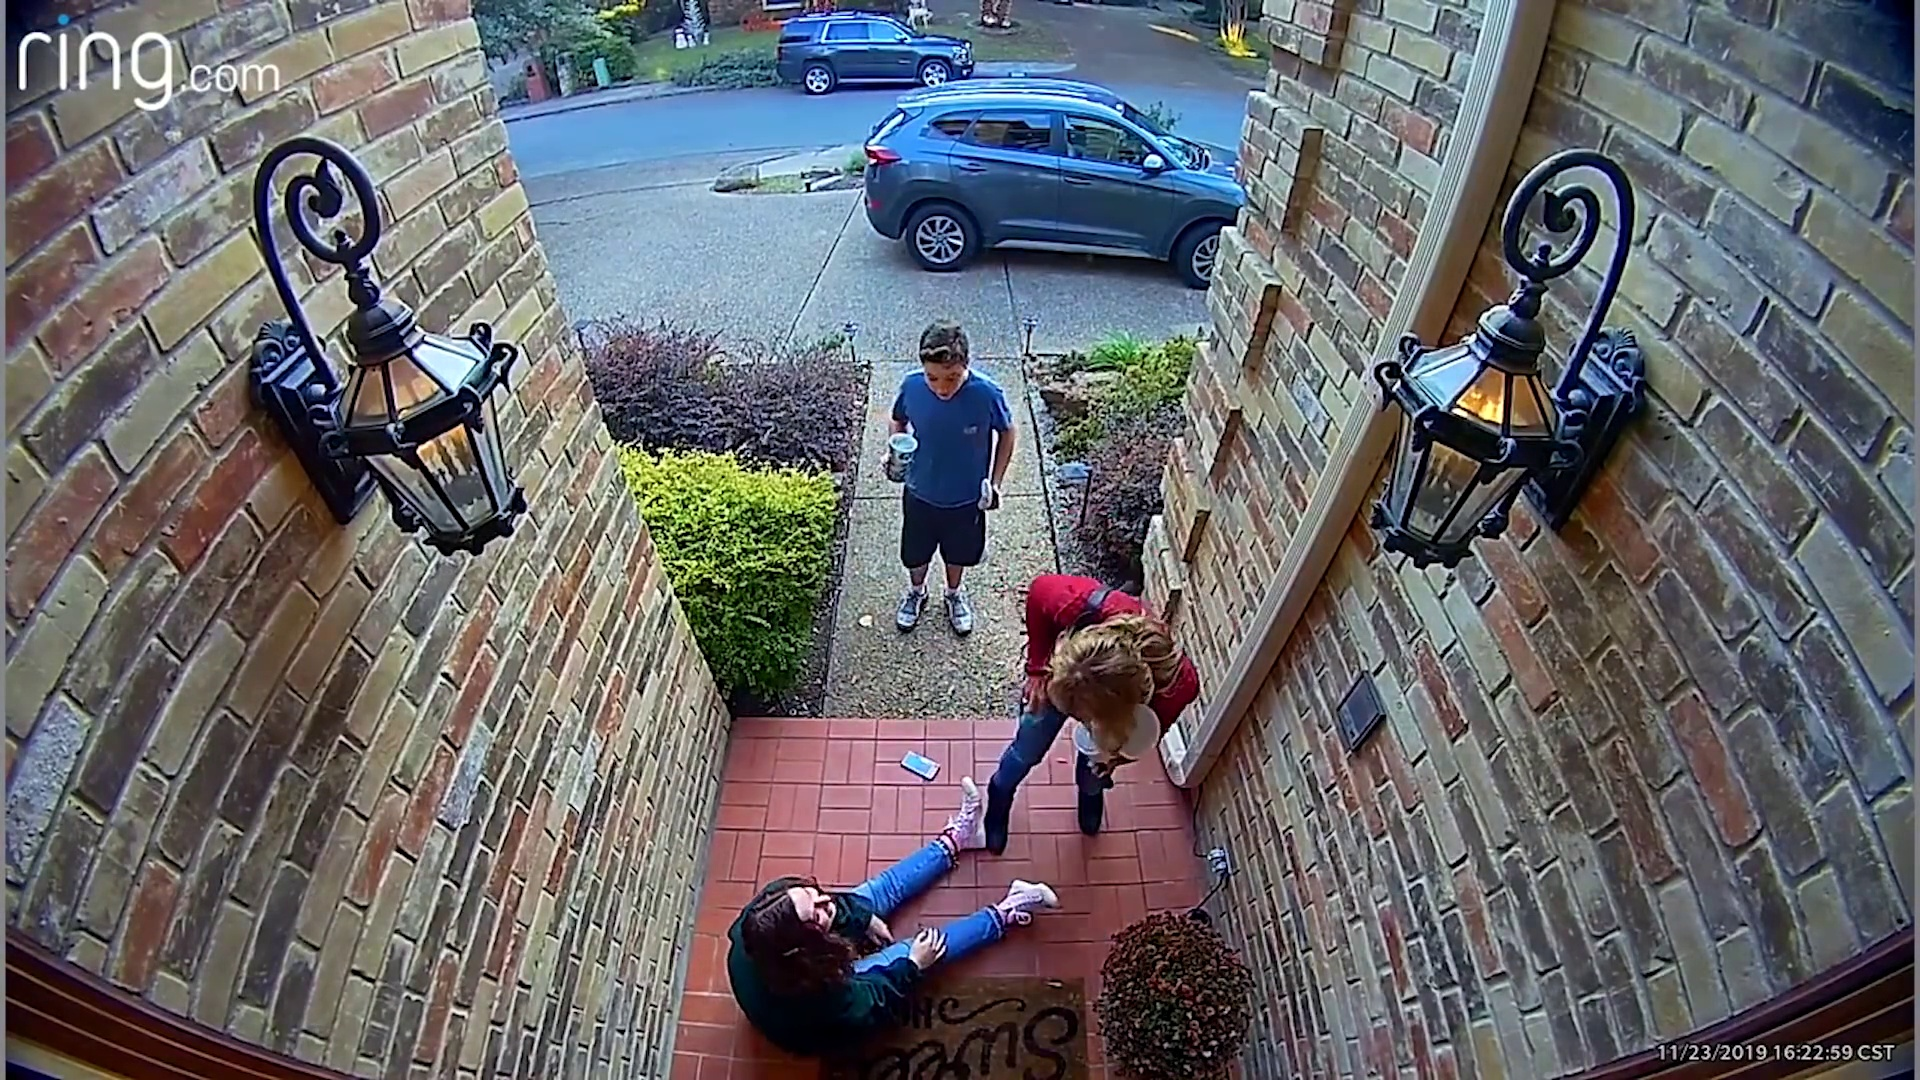face: (788, 883, 839, 933), (923, 357, 965, 399)
